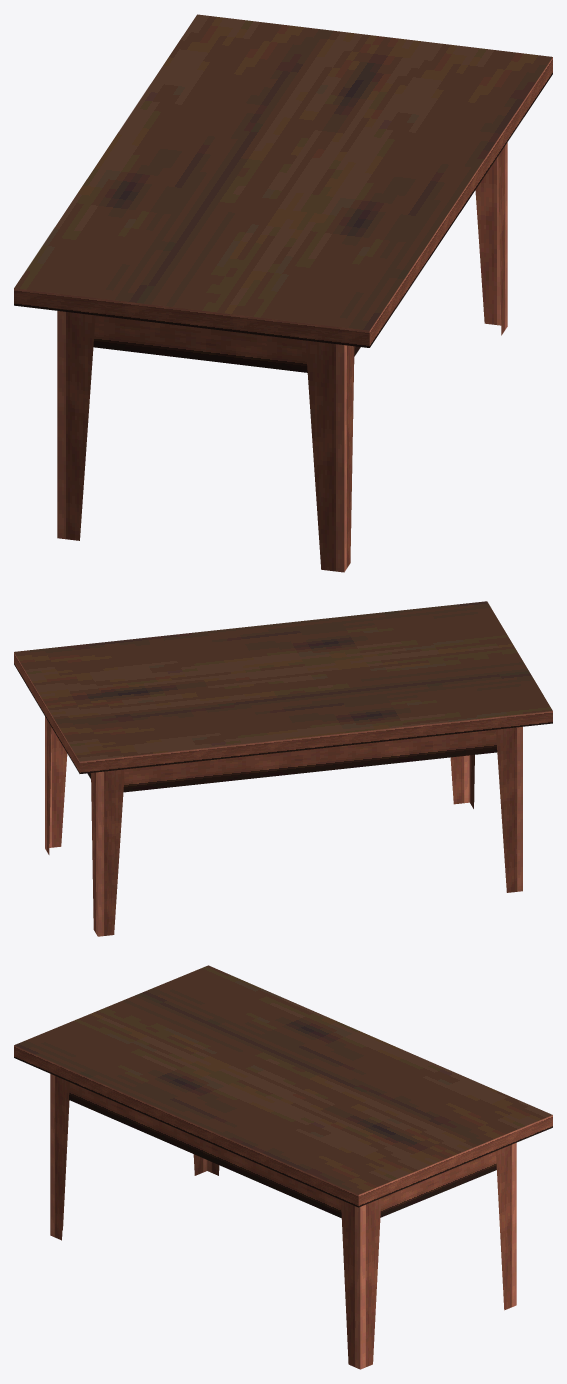
Rendered from primary_276.glb.
3 renders of one model, top to bottom at view 1: azimuth 30°, elevation 25°; view 2: azimuth 150°, elevation 25°; view 3: azimuth 270°, elevation 25°, orthographic. The views are drawn at different scales.
Visible parts, largest first — view 1: Object; view 2: Object; view 3: Object.
Part boxes in pixels (x1,y1,x2,y2): Object: (14,14,552,572); Object: (14,601,552,936); Object: (14,965,552,1369).
Bounding box in the file's own units: 2.31 × 0.8928 × 2.29.
Materials: 4 (4 with a texture image).
